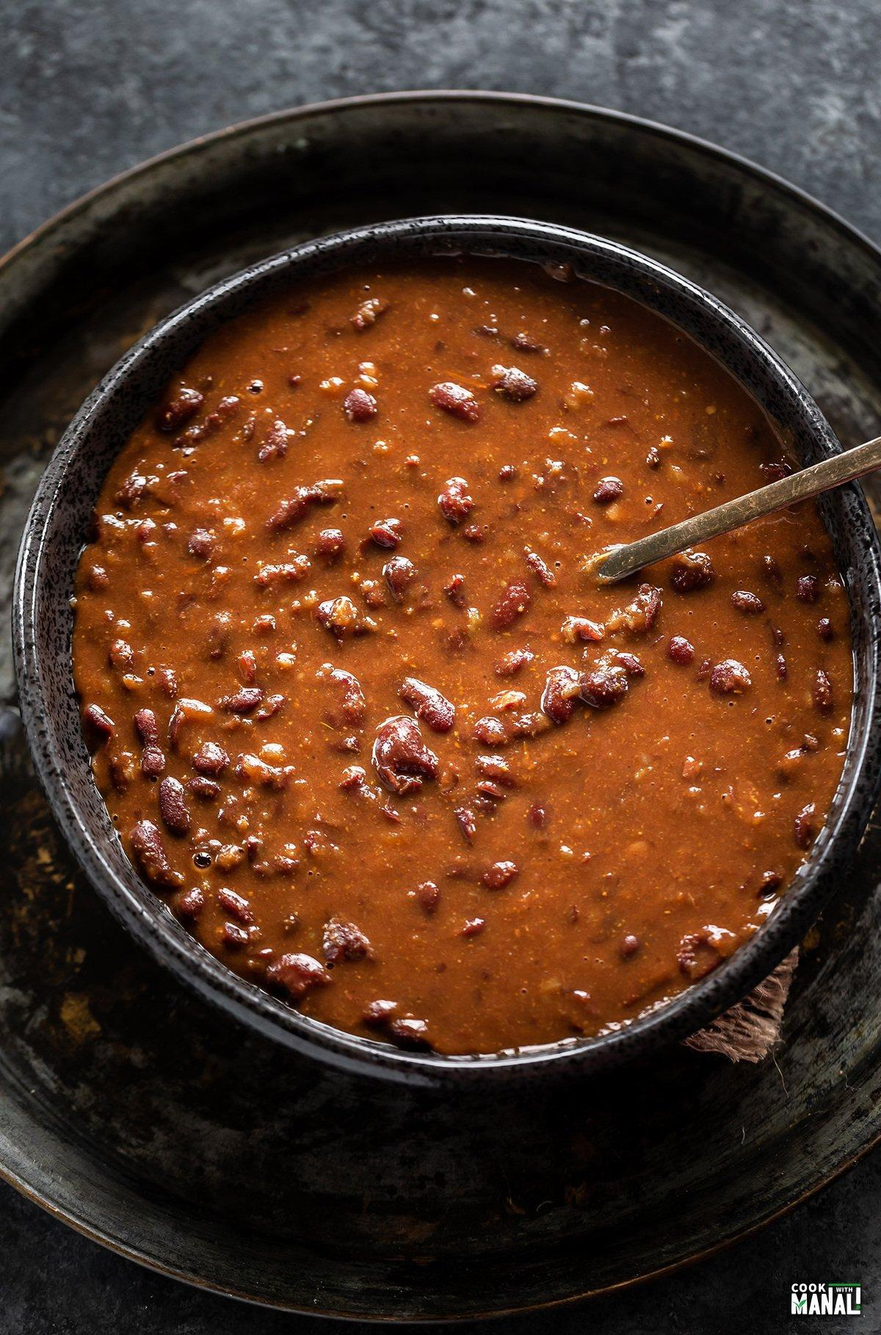rajma: (117, 275, 775, 1046)
